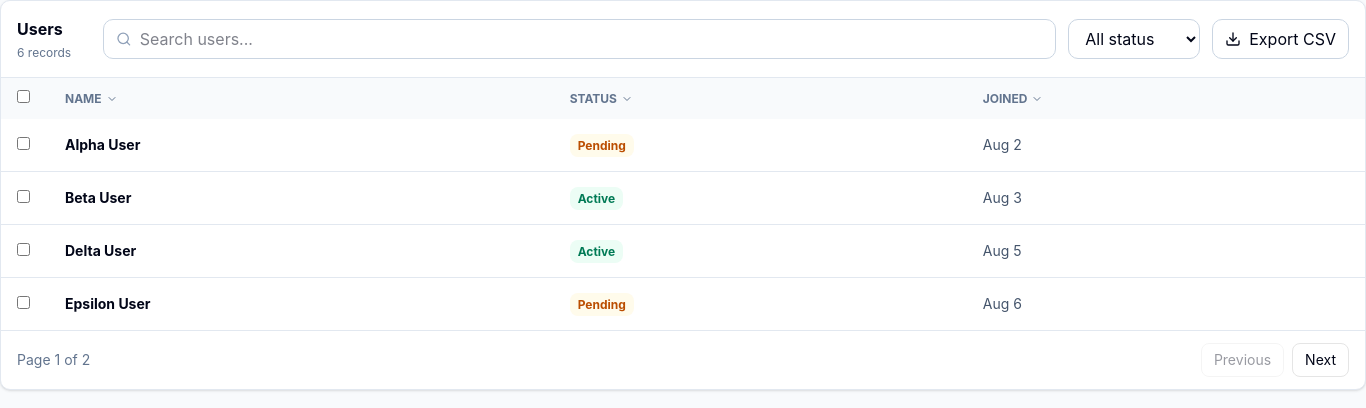
Scenario: admin dashboard components › supports table search, filtering, sorting, and pagination
Check: the text "Page 1 of 2" is shown, box top-left (17, 350), bottom-right (90, 370)
Click the button "Next" at (1321, 360), box top-left (1292, 343), bottom-right (1349, 377)
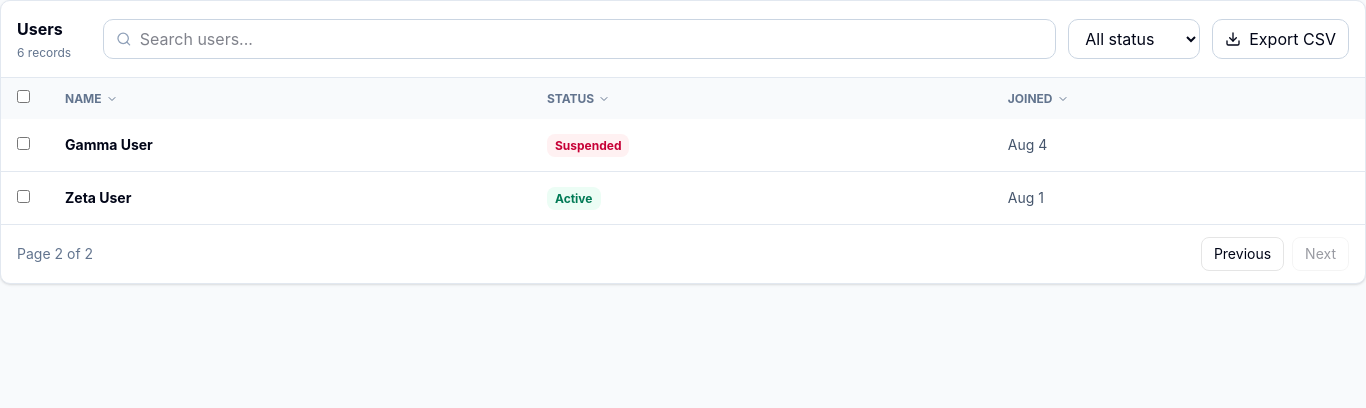
Check: the text "Gamma User" is shown, box top-left (65, 136), bottom-right (153, 153)
Type "Zeta" into the field with placeholder "Search users..." at (592, 39), box top-left (140, 27), bottom-right (1043, 51)
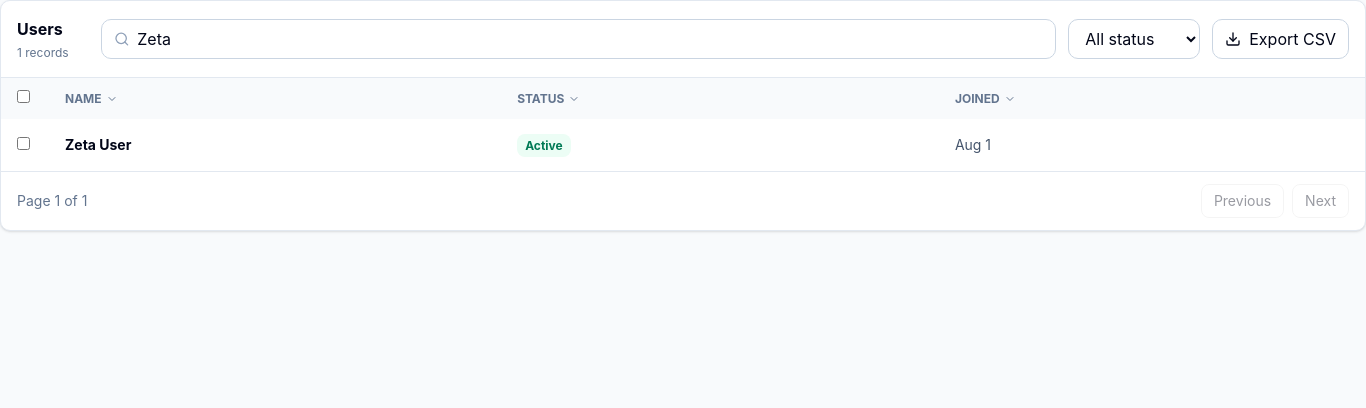
Check: the text "Alpha User" is not shown
Check: the text "Zeta User" is shown, box top-left (65, 136), bottom-right (131, 153)
Clear the field with placeholder "Search users..." at (590, 39), box top-left (137, 27), bottom-right (1043, 51)
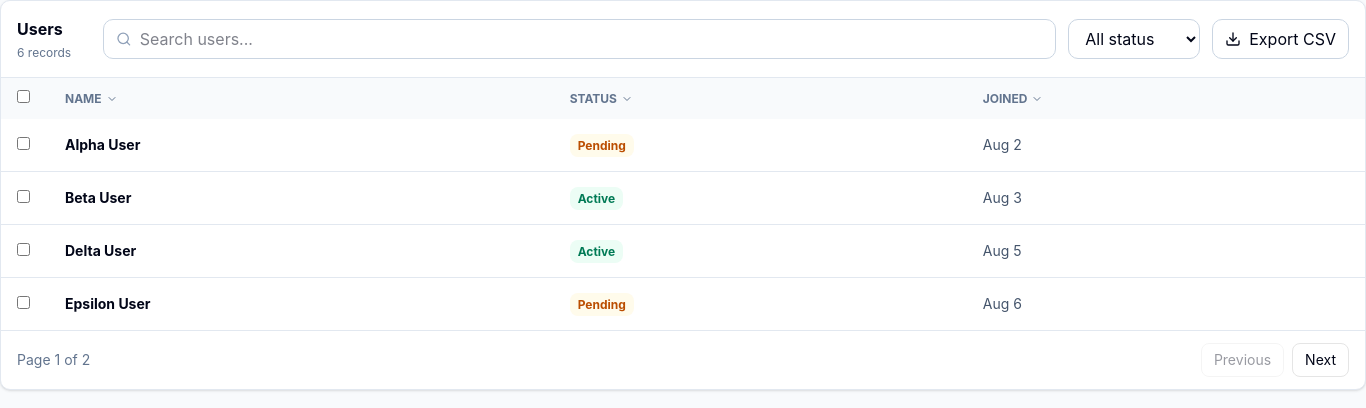
Select "Pending" in the dropdown at (1134, 39), box top-left (1068, 19), bottom-right (1200, 59)
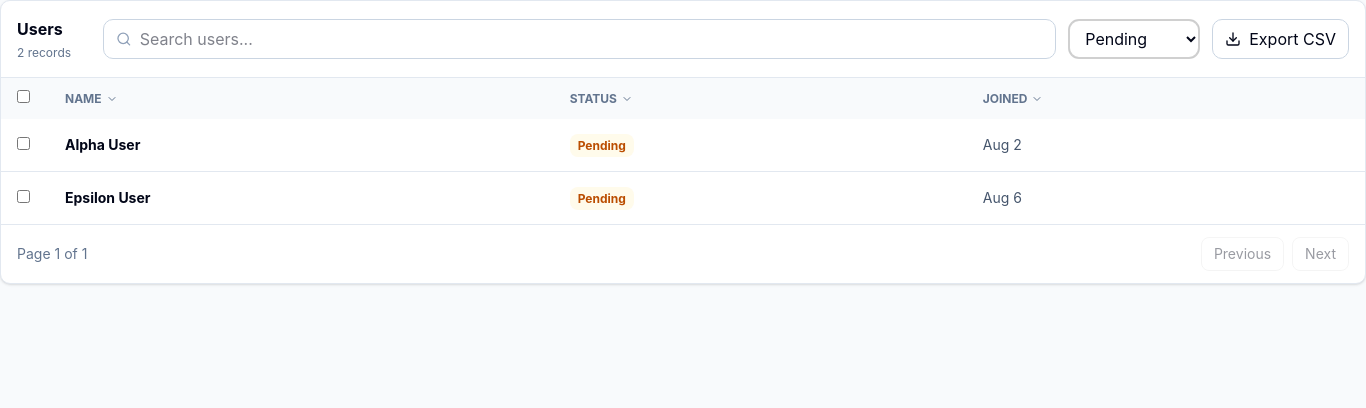
Check: the text "Alpha User" is shown, box top-left (65, 136), bottom-right (140, 153)
Check: the text "Beta User" is gone
Select "All status" in the dropdown at (1134, 39), box top-left (1068, 19), bottom-right (1200, 59)
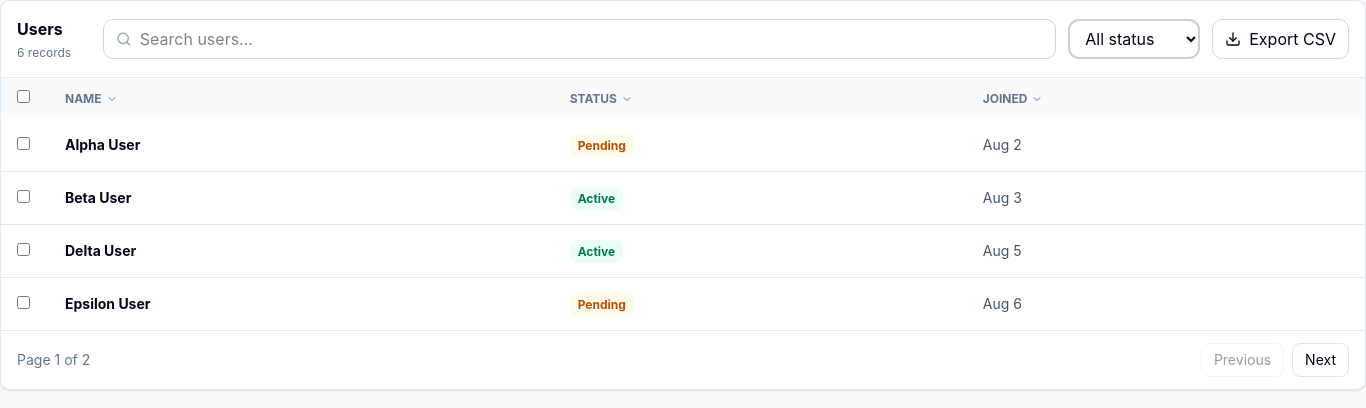
Click the button "Name" at (91, 98), box top-left (65, 90), bottom-right (118, 106)
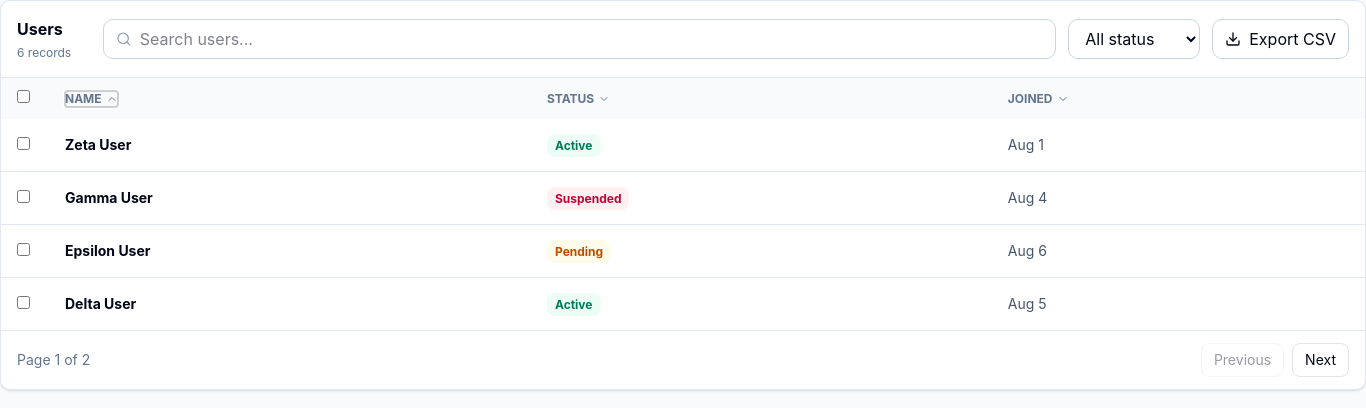
Check: the text "Zeta User" is shown, box top-left (65, 136), bottom-right (131, 153)
